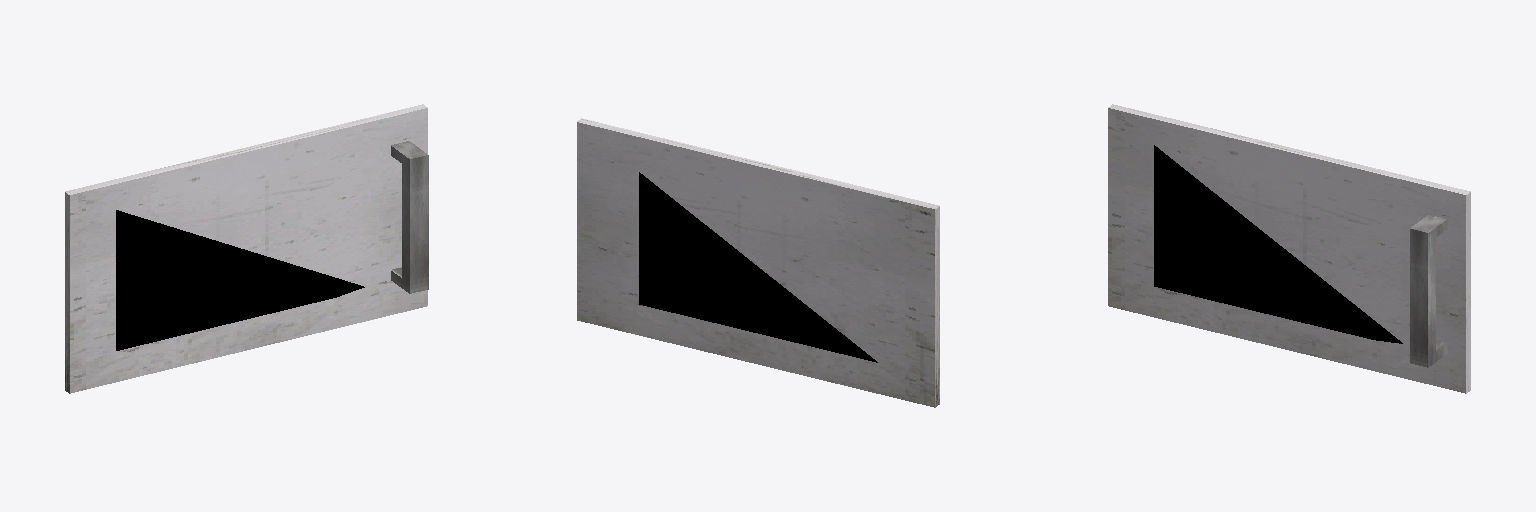
3 views of the same model, side by side, from view 1: azimuth 30°, elevation 25°; view 2: azimuth 150°, elevation 25°; view 3: azimuth 330°, elevation 25° (orthographic).
Parts seen in each view (by area): view 1: polySurface22; view 2: polySurface22; view 3: polySurface22.
Boxes of the visible parts, box(x1,y1,x2,y2) form: polySurface22: box(65, 104, 428, 393); polySurface22: box(577, 118, 939, 407); polySurface22: box(1108, 104, 1470, 393).
Bounding box in the file's own units: 0.728 × 0.3848 × 0.0851.
Materials: 4 (2 with a texture image).